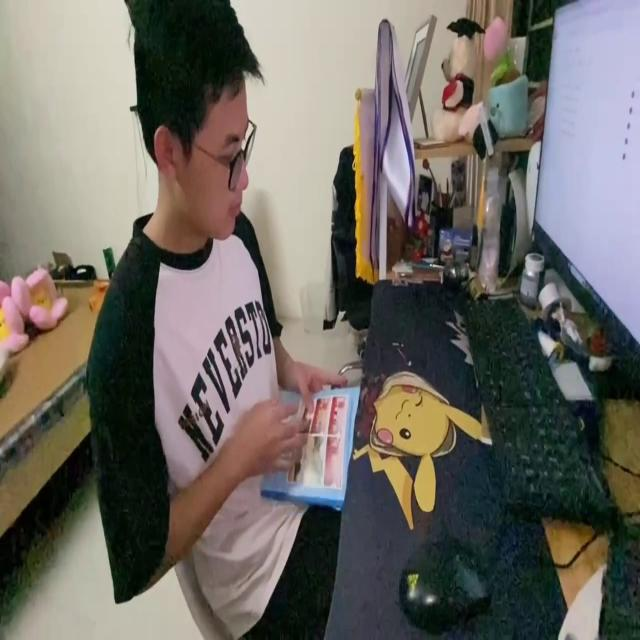book: (255, 376, 361, 508)
laptop: (531, 3, 640, 388)
student: (83, 0, 341, 639)
